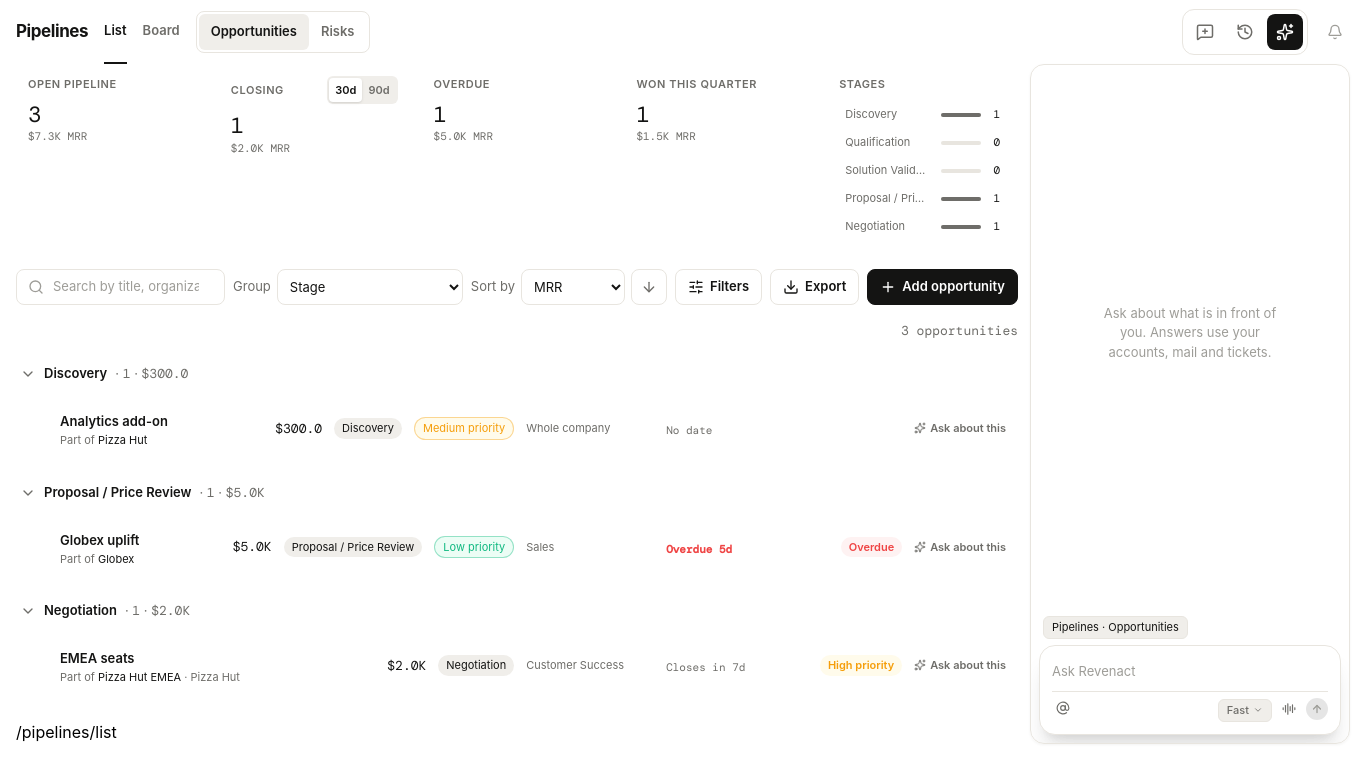
Test case: Ask about this on Pipelines › drops an unsent focus and its untouched question when the kind changes
Click the button with aria-label "Ask about this: EMEA seats". click: (960, 665)
box: 914,647 -> 1006,683
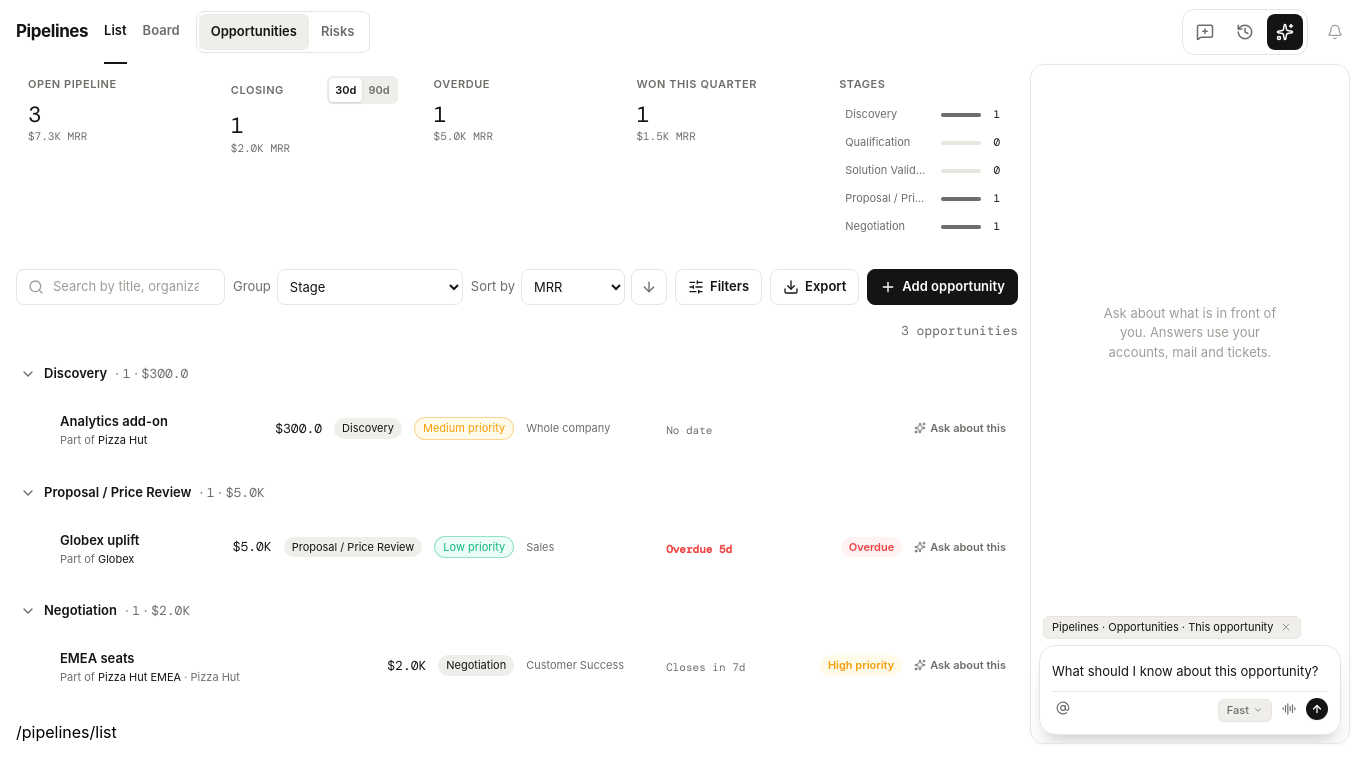
Expected: the text "Pipelines · Opportunities · This opportunity" is shown, 1043,616 -> 1300,638
Click the link "Risks". click: (338, 31)
box: 321,23 -> 354,39
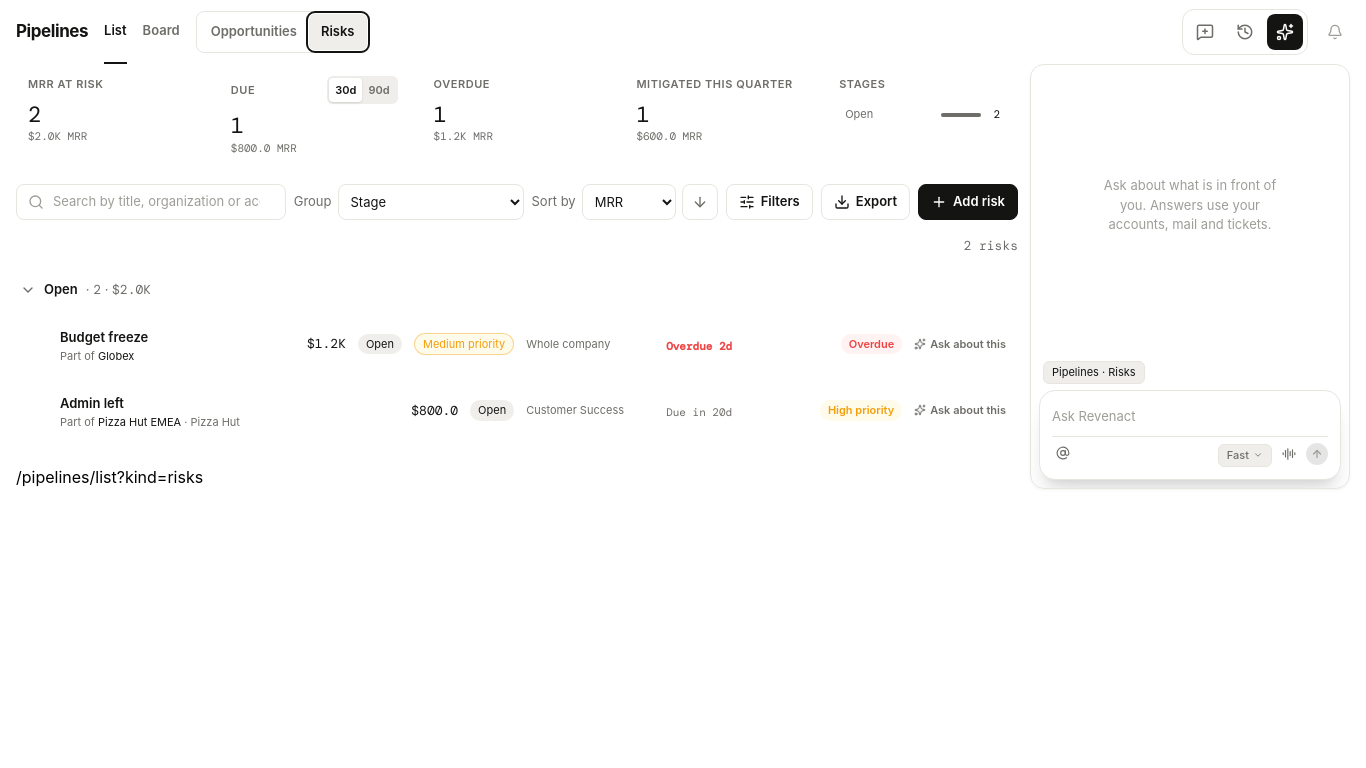
Expected: the text "Pipelines · Risks" is shown, 1043,361 -> 1145,384
Expected: the field with placeholder "Ask Revenact" is empty, 1052,404 -> 1328,428
